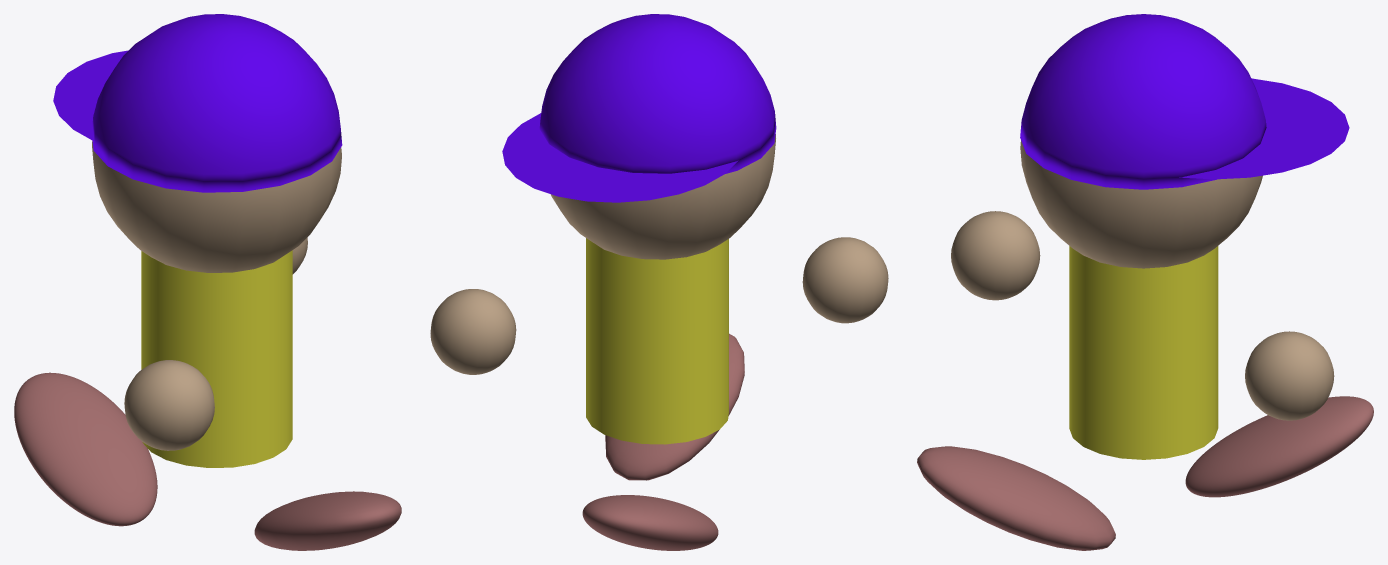
The model's file is playerhidari.fbx.
The picture shows the model from 3 angles, left to right: view 1: azimuth 30°, elevation 25°; view 2: azimuth 150°, elevation 25°; view 3: azimuth 270°, elevation 25°; orthographic projection. The views are drawn at different scales.
Visible parts, largest first — view 1: pSphere7, pCylinder1, pSphere1, pSphere6, pSphere3, pSphere8, pDisc1; view 2: pSphere7, pCylinder1, pSphere1, pDisc1, pSphere8, pSphere2, pSphere6, pSphere3; view 3: pSphere7, pCylinder1, pSphere1, pSphere3, pSphere6, pDisc1, pSphere2, pSphere8.
Boxes of the visible parts, x1,y1,x2,y2 form: pSphere7: (92, 14, 342, 192); pCylinder1: (141, 250, 292, 467); pSphere1: (92, 141, 341, 272); pSphere6: (14, 372, 157, 526); pSphere3: (254, 491, 401, 550); pSphere8: (124, 360, 214, 450); pDisc1: (53, 50, 128, 141); pSphere7: (539, 14, 776, 173); pCylinder1: (586, 238, 728, 444); pSphere1: (551, 134, 775, 259); pDisc1: (502, 113, 738, 202); pSphere8: (802, 237, 888, 323); pSphere2: (430, 289, 516, 374); pSphere6: (582, 495, 718, 550); pSphere3: (605, 333, 744, 480); pSphere7: (1020, 14, 1266, 189); pCylinder1: (1069, 246, 1218, 459); pSphere1: (1020, 140, 1262, 268); pSphere3: (917, 446, 1115, 550); pSphere6: (1185, 396, 1373, 497); pDisc1: (1179, 78, 1349, 179); pSphere2: (1245, 331, 1334, 420); pSphere8: (951, 211, 1040, 300).
Size of the model in its own units: 0.7075 by 1.06 by 0.8869.
